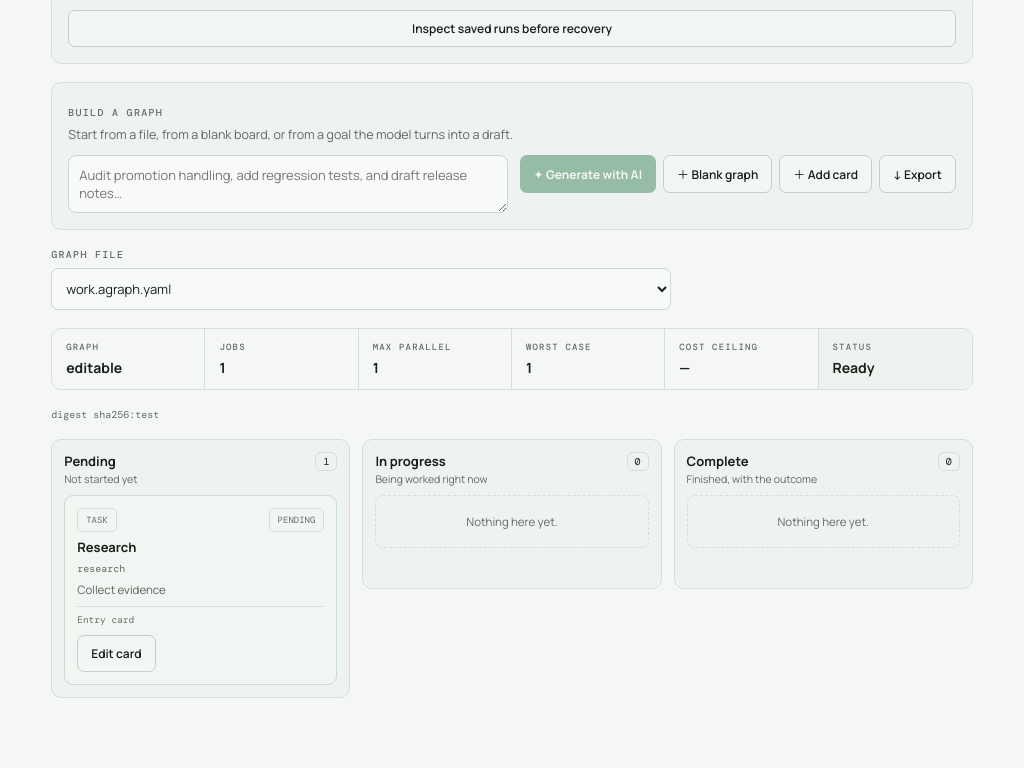
Test: GraphsView › opens a saved card for editing its tools and permissions
This screenshot has width=1024, height=768.
(page scrolled)
Click the button "Edit card".
click(116, 654)  # box [77, 635, 156, 672]
(page scrolled)
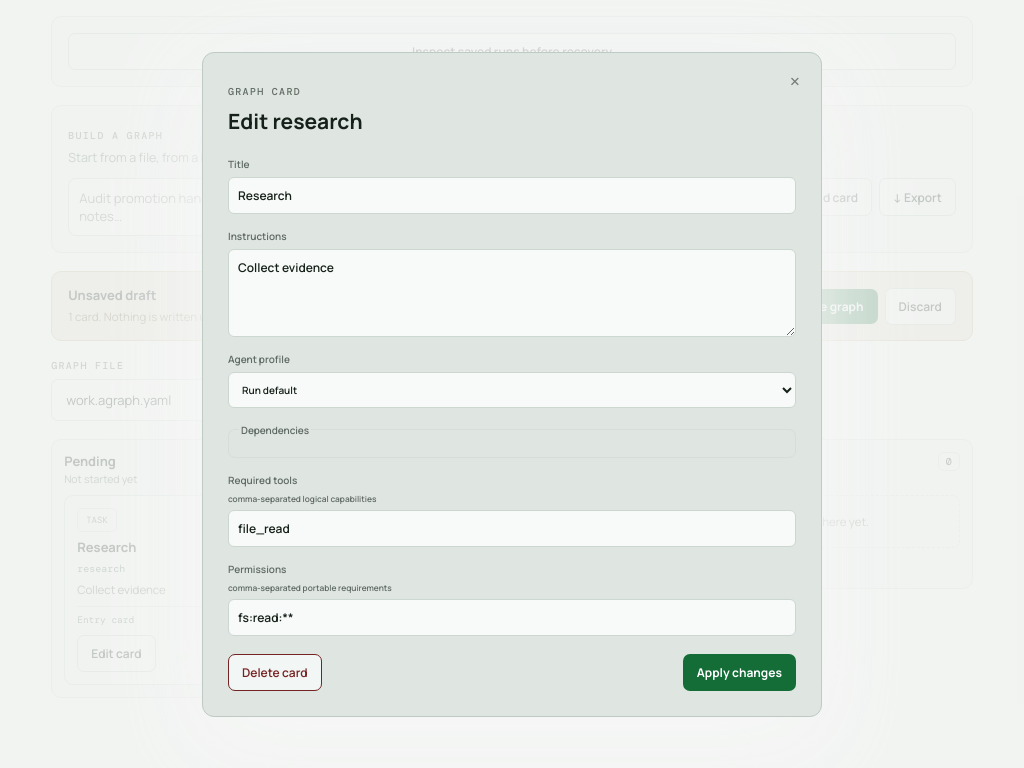
Check: the dialog "Edit research" is shown
Check: the field labelled "Required tools comma-separated logical capabilities" holds "file_read", box [228, 510, 796, 546]
Check: the field labelled "Permissions comma-separated portable requirements" holds "fs:read:**", box [228, 598, 796, 636]
